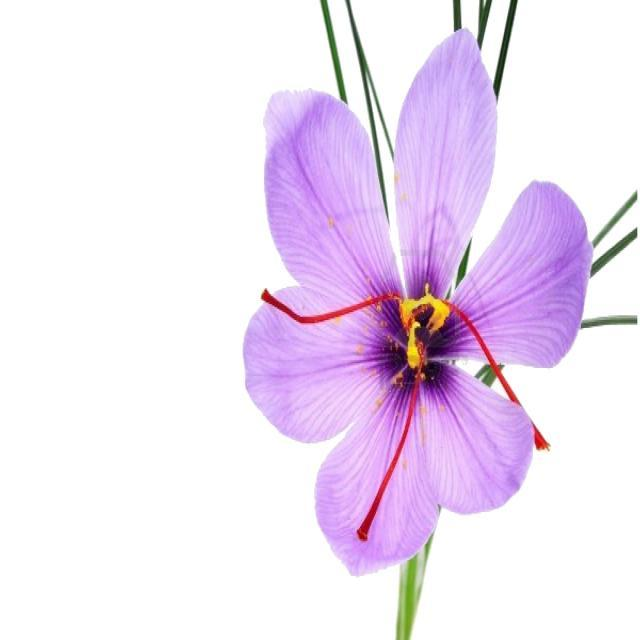Flower: (243, 19, 590, 578)
stigma: (439, 292, 545, 445), (351, 344, 432, 538), (263, 280, 400, 325)
